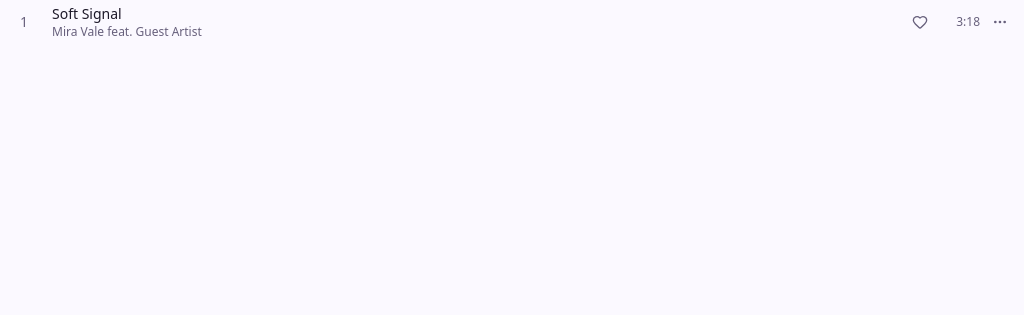
Test: TrackRow › menu › offers a page for each of the song's artists, each linking to its own
The width and height of the screenshot is (1024, 315).
What coordinates should you click on to do the following:
click the button named "More options for Soft Signal"
I would click on:
 (1000, 22)
Its box is [984, 6, 1016, 38].
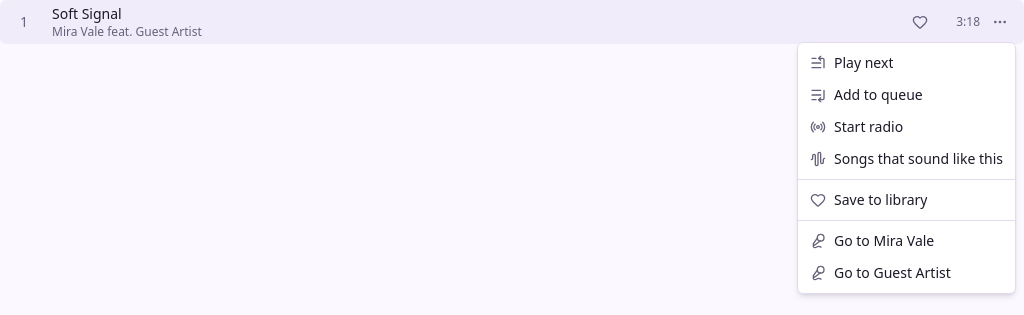
Check: the text "Go to Mira Vale" is shown, box [834, 231, 934, 251]
